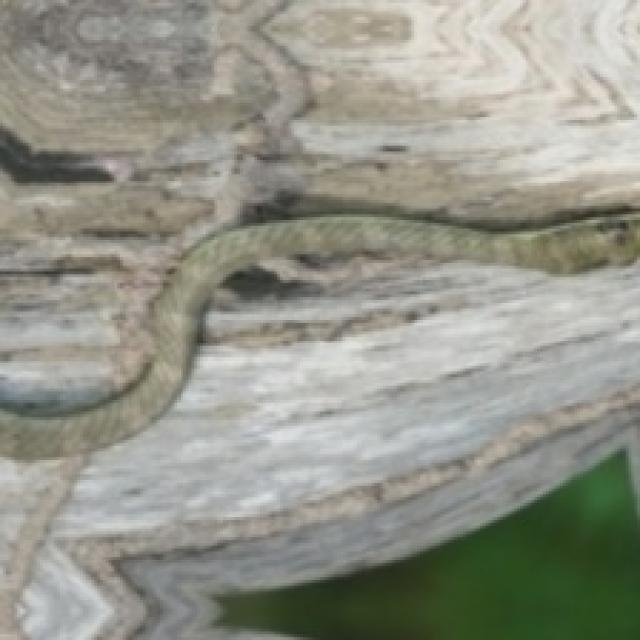paradise tree snake: (0, 214, 637, 637)
